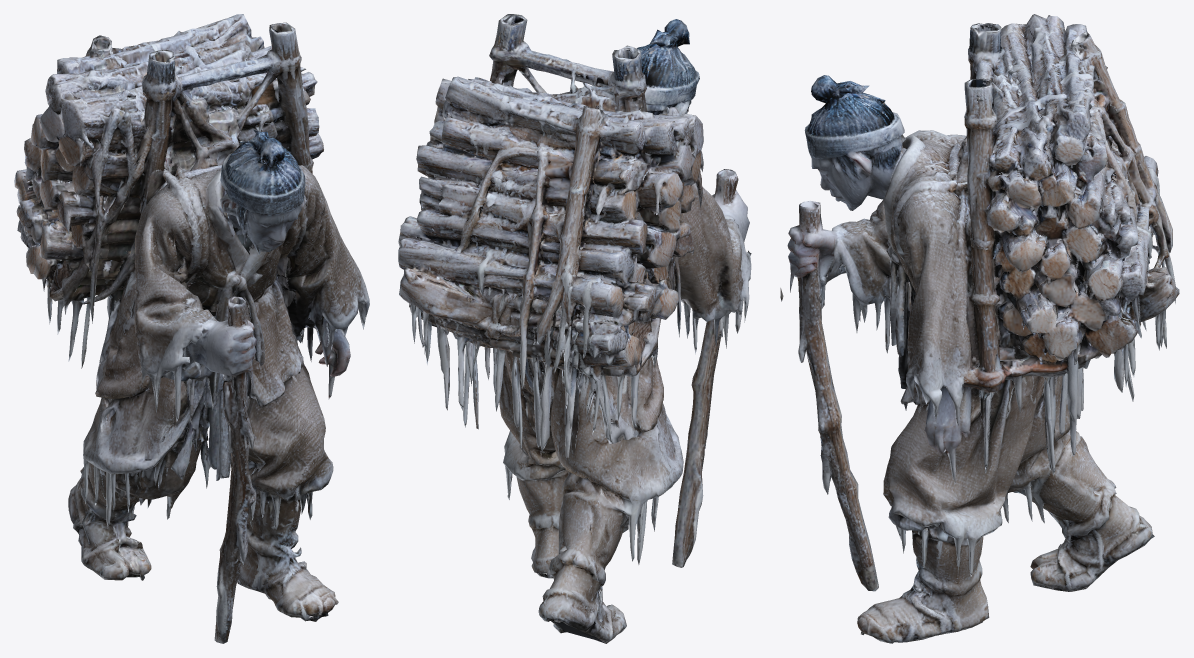
File: PR_FrozenVillager_Porter.fbx
3 views of the same model, side by side, from view 1: azimuth 30°, elevation 25°; view 2: azimuth 150°, elevation 25°; view 3: azimuth 270°, elevation 25° (orthographic). The views are drawn at different scales.
Visible parts, largest first — view 1: texture_mapping; view 2: texture_mapping; view 3: texture_mapping.
Boxes of the visible parts, left/top/right/bottom form: texture_mapping: left=14, top=14, right=369, bottom=643; texture_mapping: left=398, top=14, right=751, bottom=643; texture_mapping: left=780, top=14, right=1179, bottom=643.
Size of the model in its own units: 0.5156 by 0.6446 by 1.
1 material, 1 textured.
